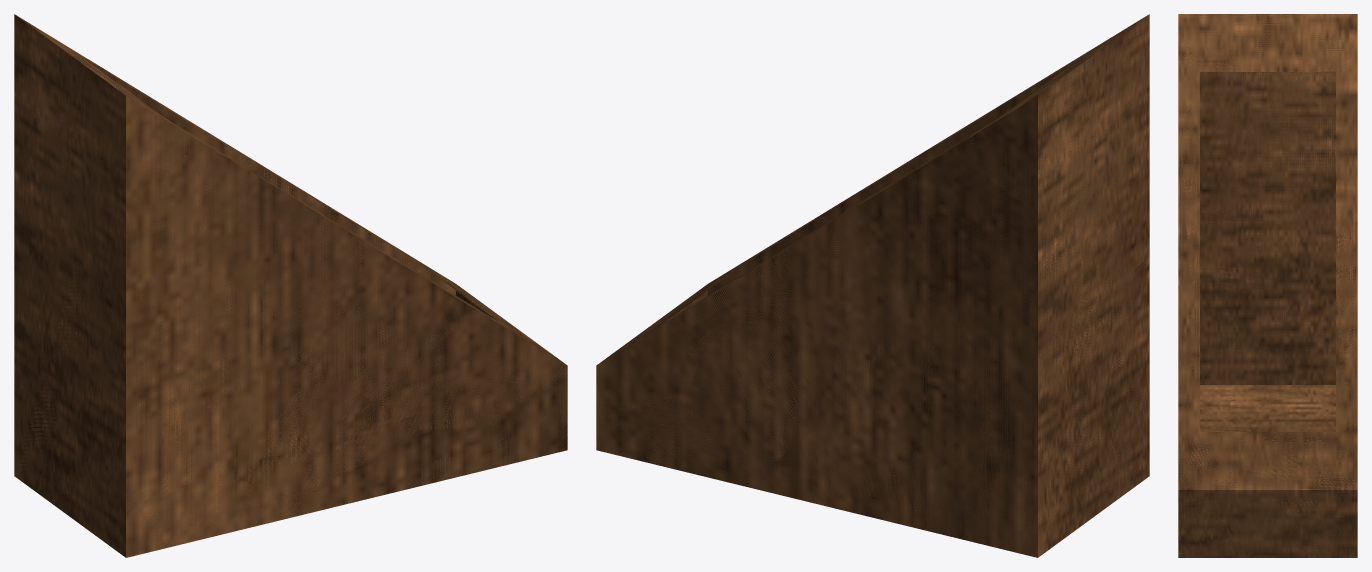
The model's file is Filer.fbx.
The picture shows the model from 3 angles, left to right: view 1: azimuth 30°, elevation 25°; view 2: azimuth 150°, elevation 25°; view 3: azimuth 270°, elevation 25°; orthographic projection. The views are drawn at different scales.
Visible parts, largest first — view 1: filer; view 2: filer; view 3: filer.
Boxes of the visible parts, x1=… form: filer: x1=14, y1=14, x2=567, y2=557; filer: x1=596, y1=14, x2=1149, y2=557; filer: x1=1178, y1=14, x2=1357, y2=557.
Size of the model in its own units: 37.69 by 37.69 by 16.53.
